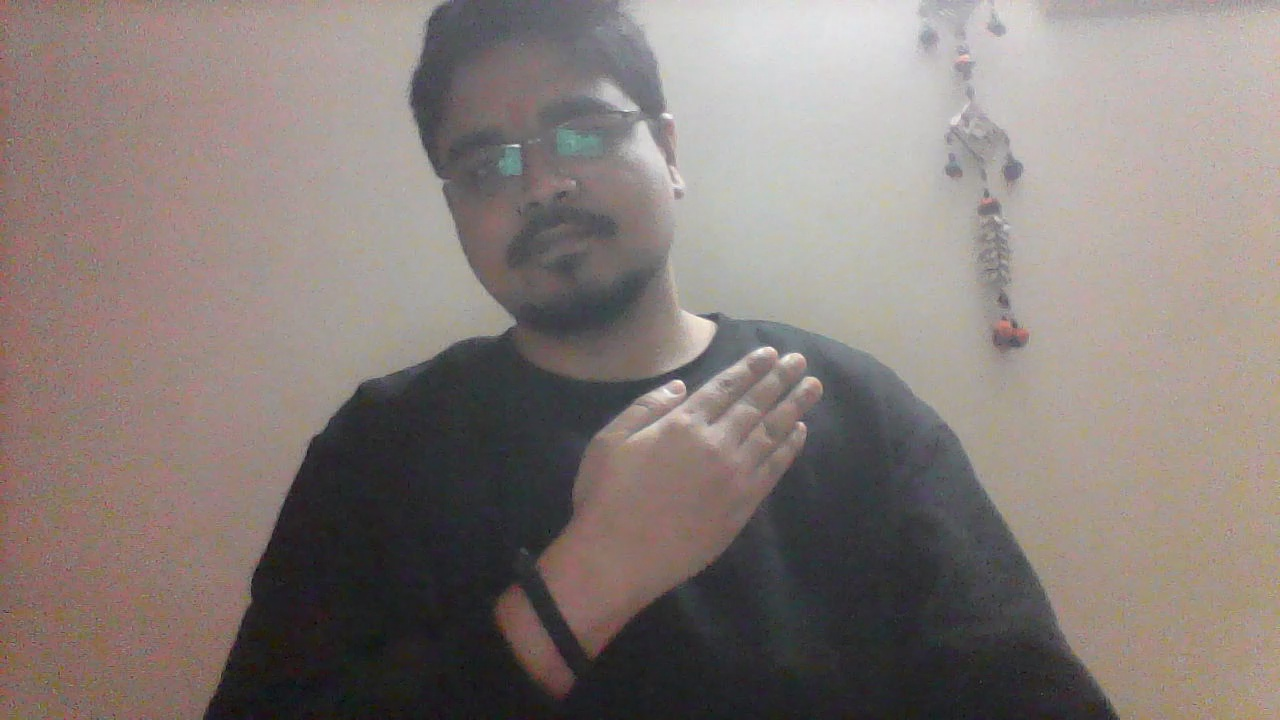Please: (573, 340, 826, 594)
